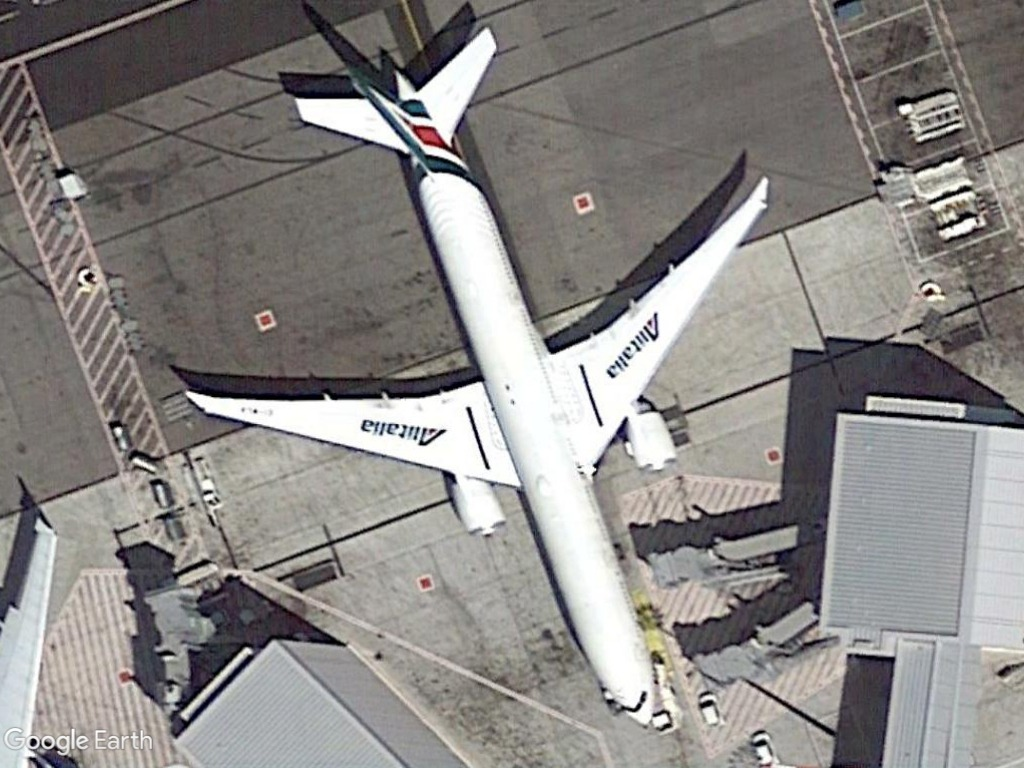airliner: (175, 21, 774, 743)
car: (694, 688, 725, 730), (748, 728, 779, 768)
